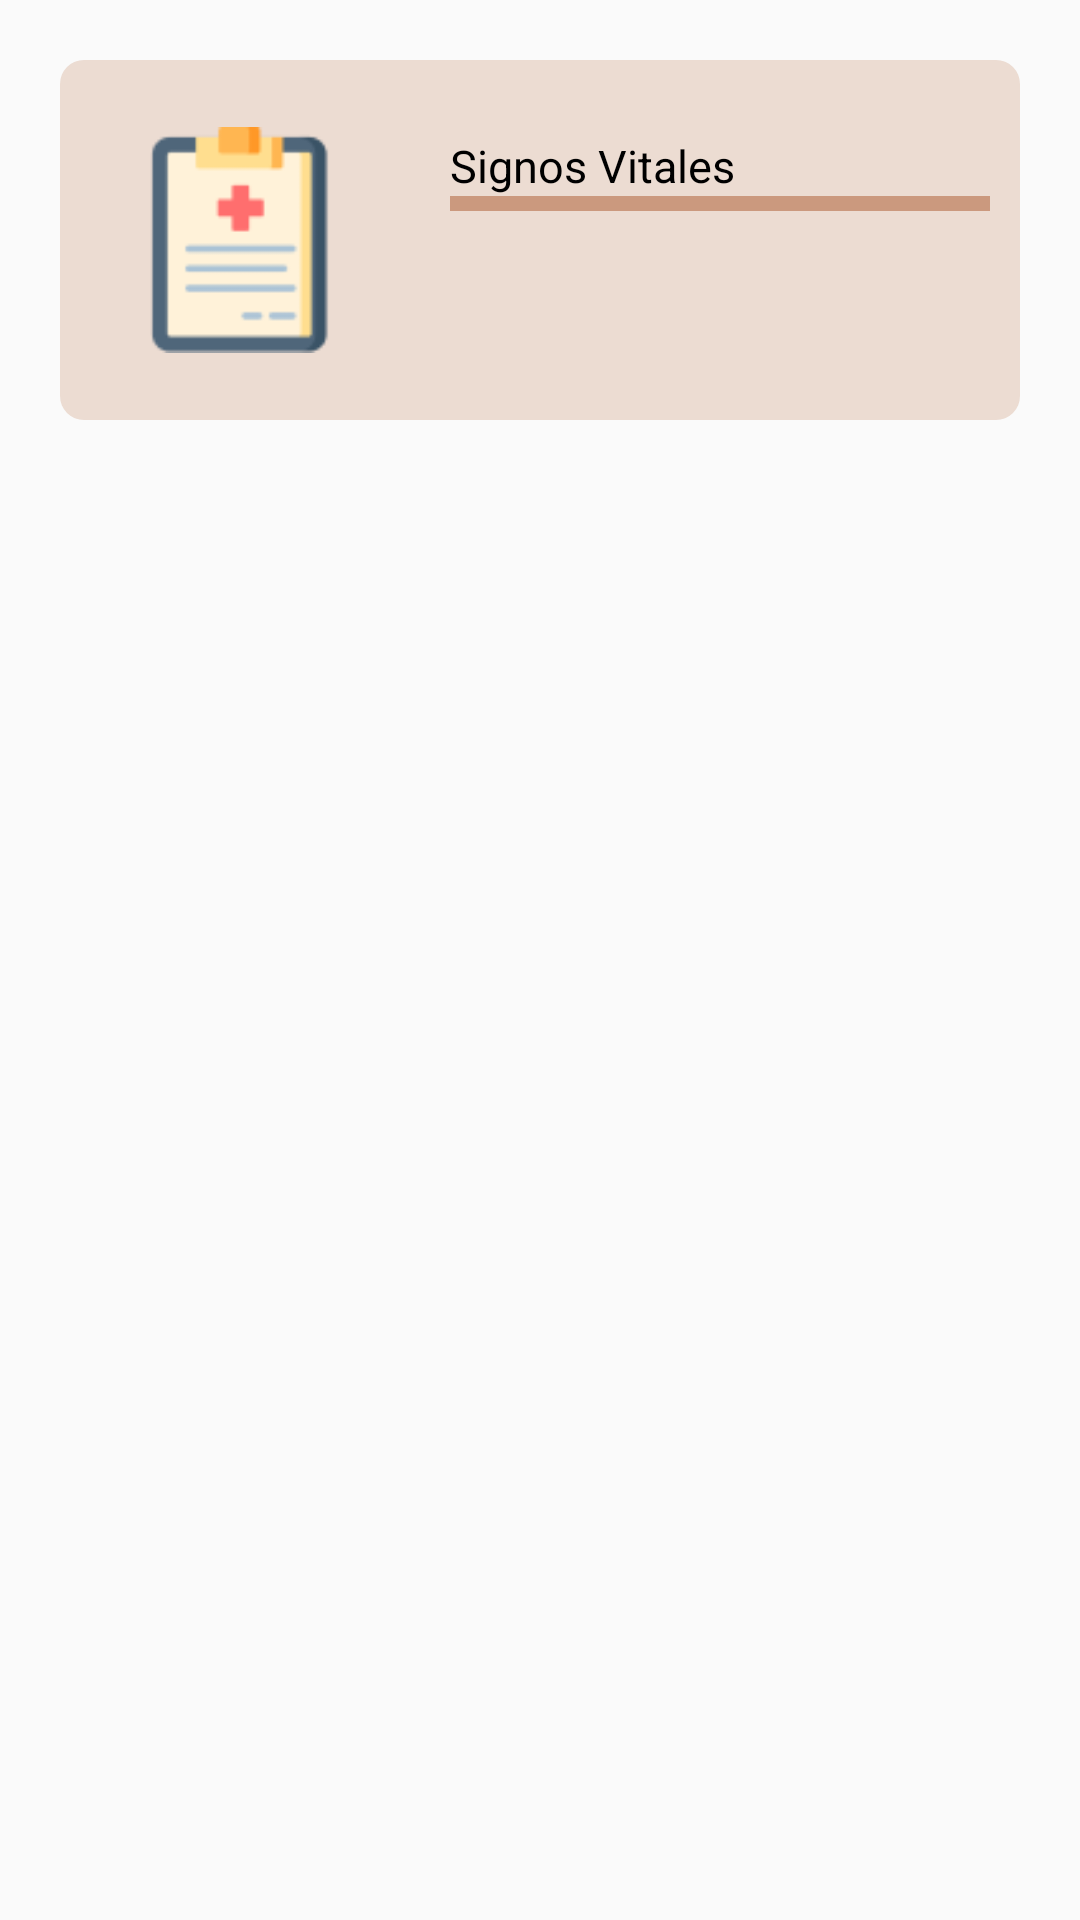

Icons on this 1080 × 1920 Android screen, each with the point to tap as (x,y):
historial: (239,240)
